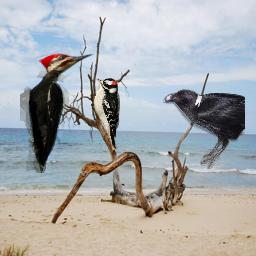Crow: (163, 89, 245, 170)
Woodpecker: (20, 51, 98, 173), (92, 78, 120, 149)
